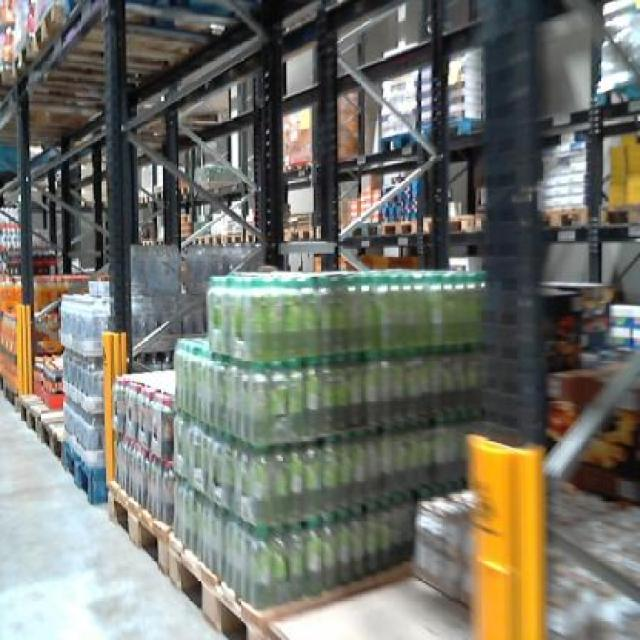ground: (0, 384, 227, 638)
pallet: (104, 478, 471, 638), (0, 2, 229, 147), (0, 377, 107, 506), (374, 115, 490, 155), (536, 99, 638, 132), (347, 217, 429, 237), (536, 204, 591, 229), (186, 231, 262, 245), (599, 201, 638, 224), (449, 213, 481, 234), (283, 224, 321, 241)
